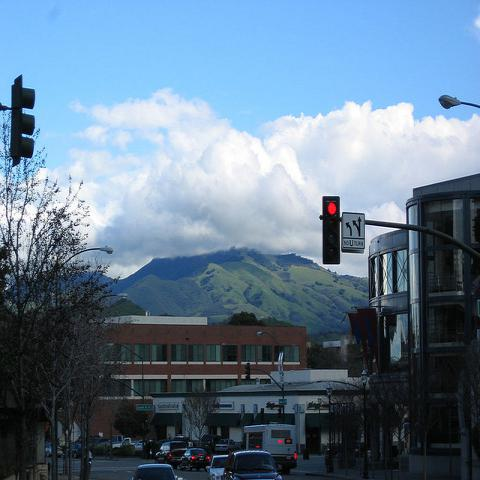bus: (244, 423, 297, 475)
car: (222, 448, 283, 480), (131, 463, 184, 479), (179, 447, 209, 470), (209, 454, 229, 480), (201, 435, 225, 451), (215, 439, 240, 454), (46, 443, 64, 458), (62, 444, 81, 458), (94, 438, 108, 453)
truck: (243, 427, 296, 472), (154, 440, 188, 470), (112, 437, 137, 454)
